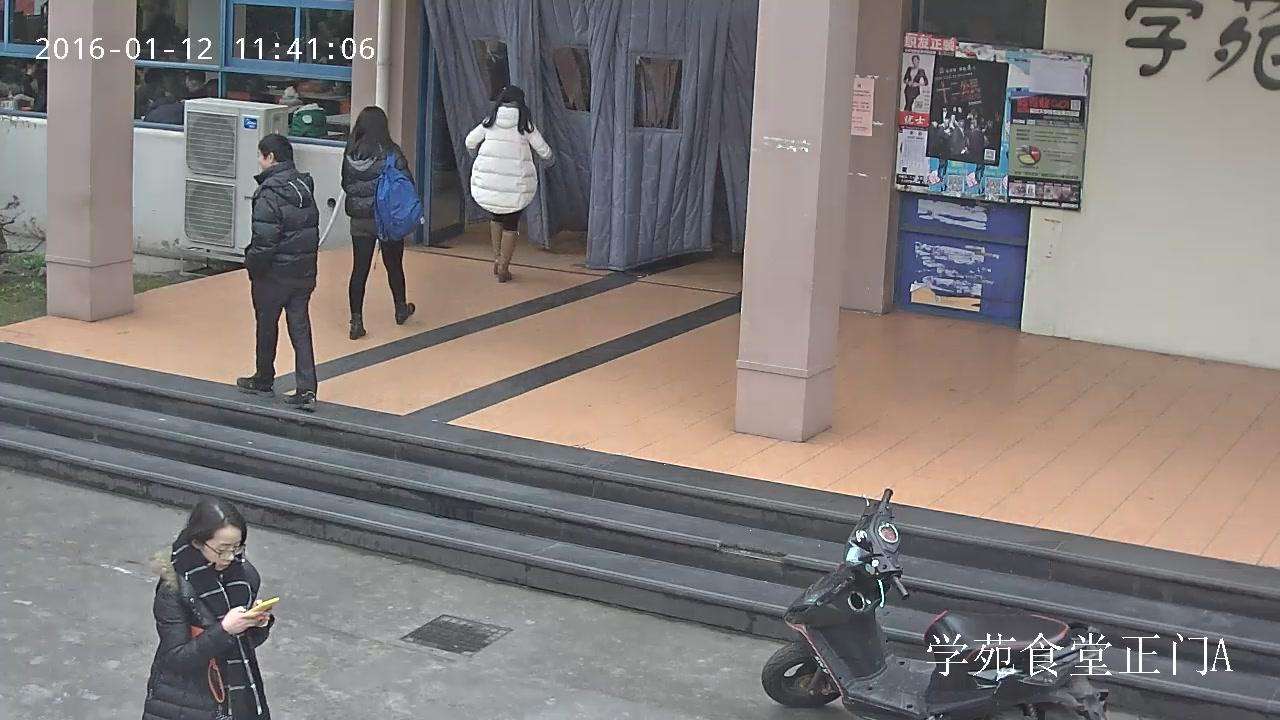person: (141, 496, 280, 720), (234, 133, 319, 410), (340, 104, 425, 340), (465, 85, 557, 283), (278, 86, 329, 142), (902, 53, 928, 112), (168, 70, 210, 105)
